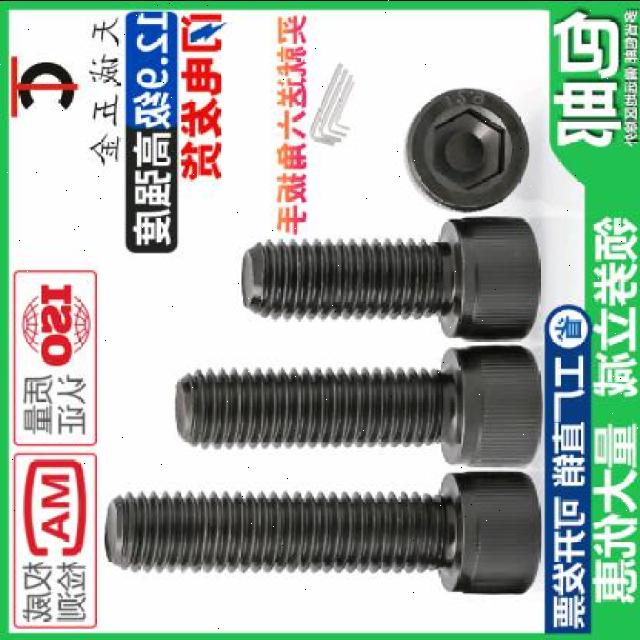Bolt: (104, 469, 542, 599), (173, 344, 544, 472), (240, 214, 543, 344), (404, 84, 528, 212)
